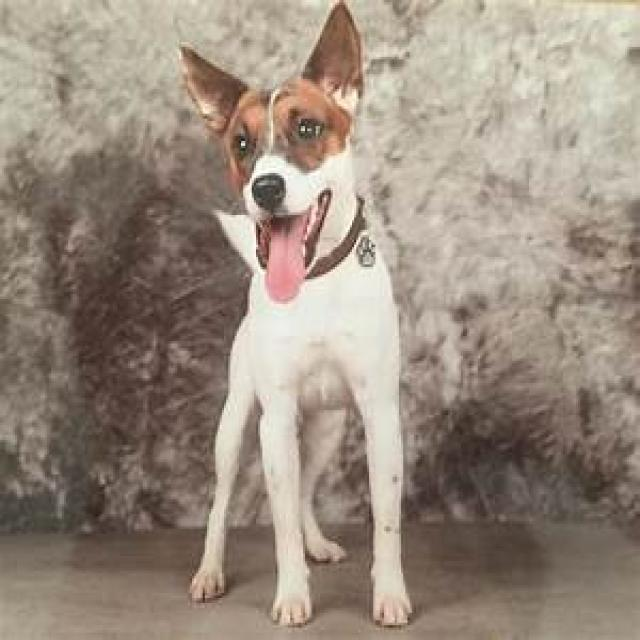dog: (179, 2, 414, 630)
